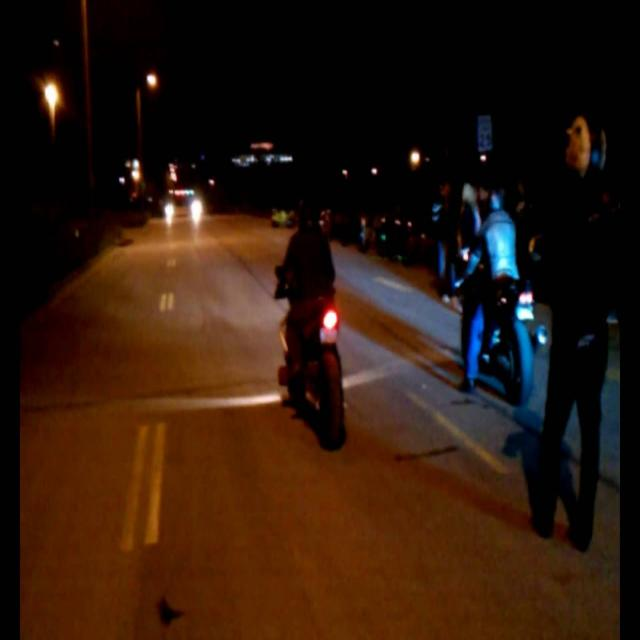Motorbike: (256, 210, 372, 466), (416, 237, 552, 411)
